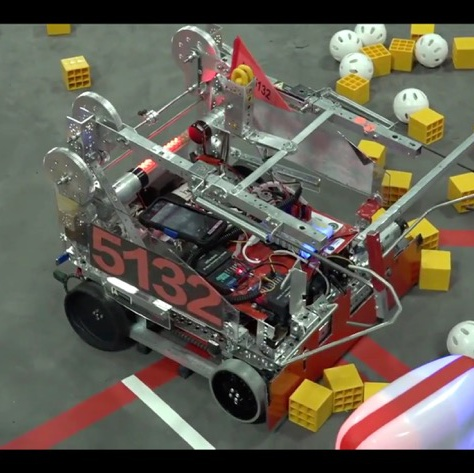robot: (40, 25, 435, 427)
